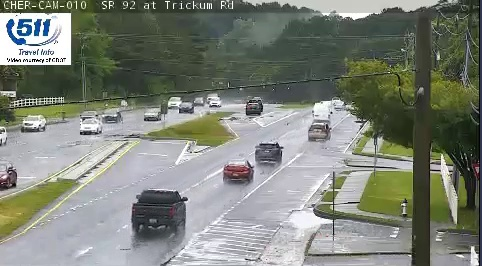car: (131, 189, 186, 227), (224, 161, 253, 180), (255, 142, 282, 162), (308, 122, 330, 139)
van: (313, 103, 330, 122)
